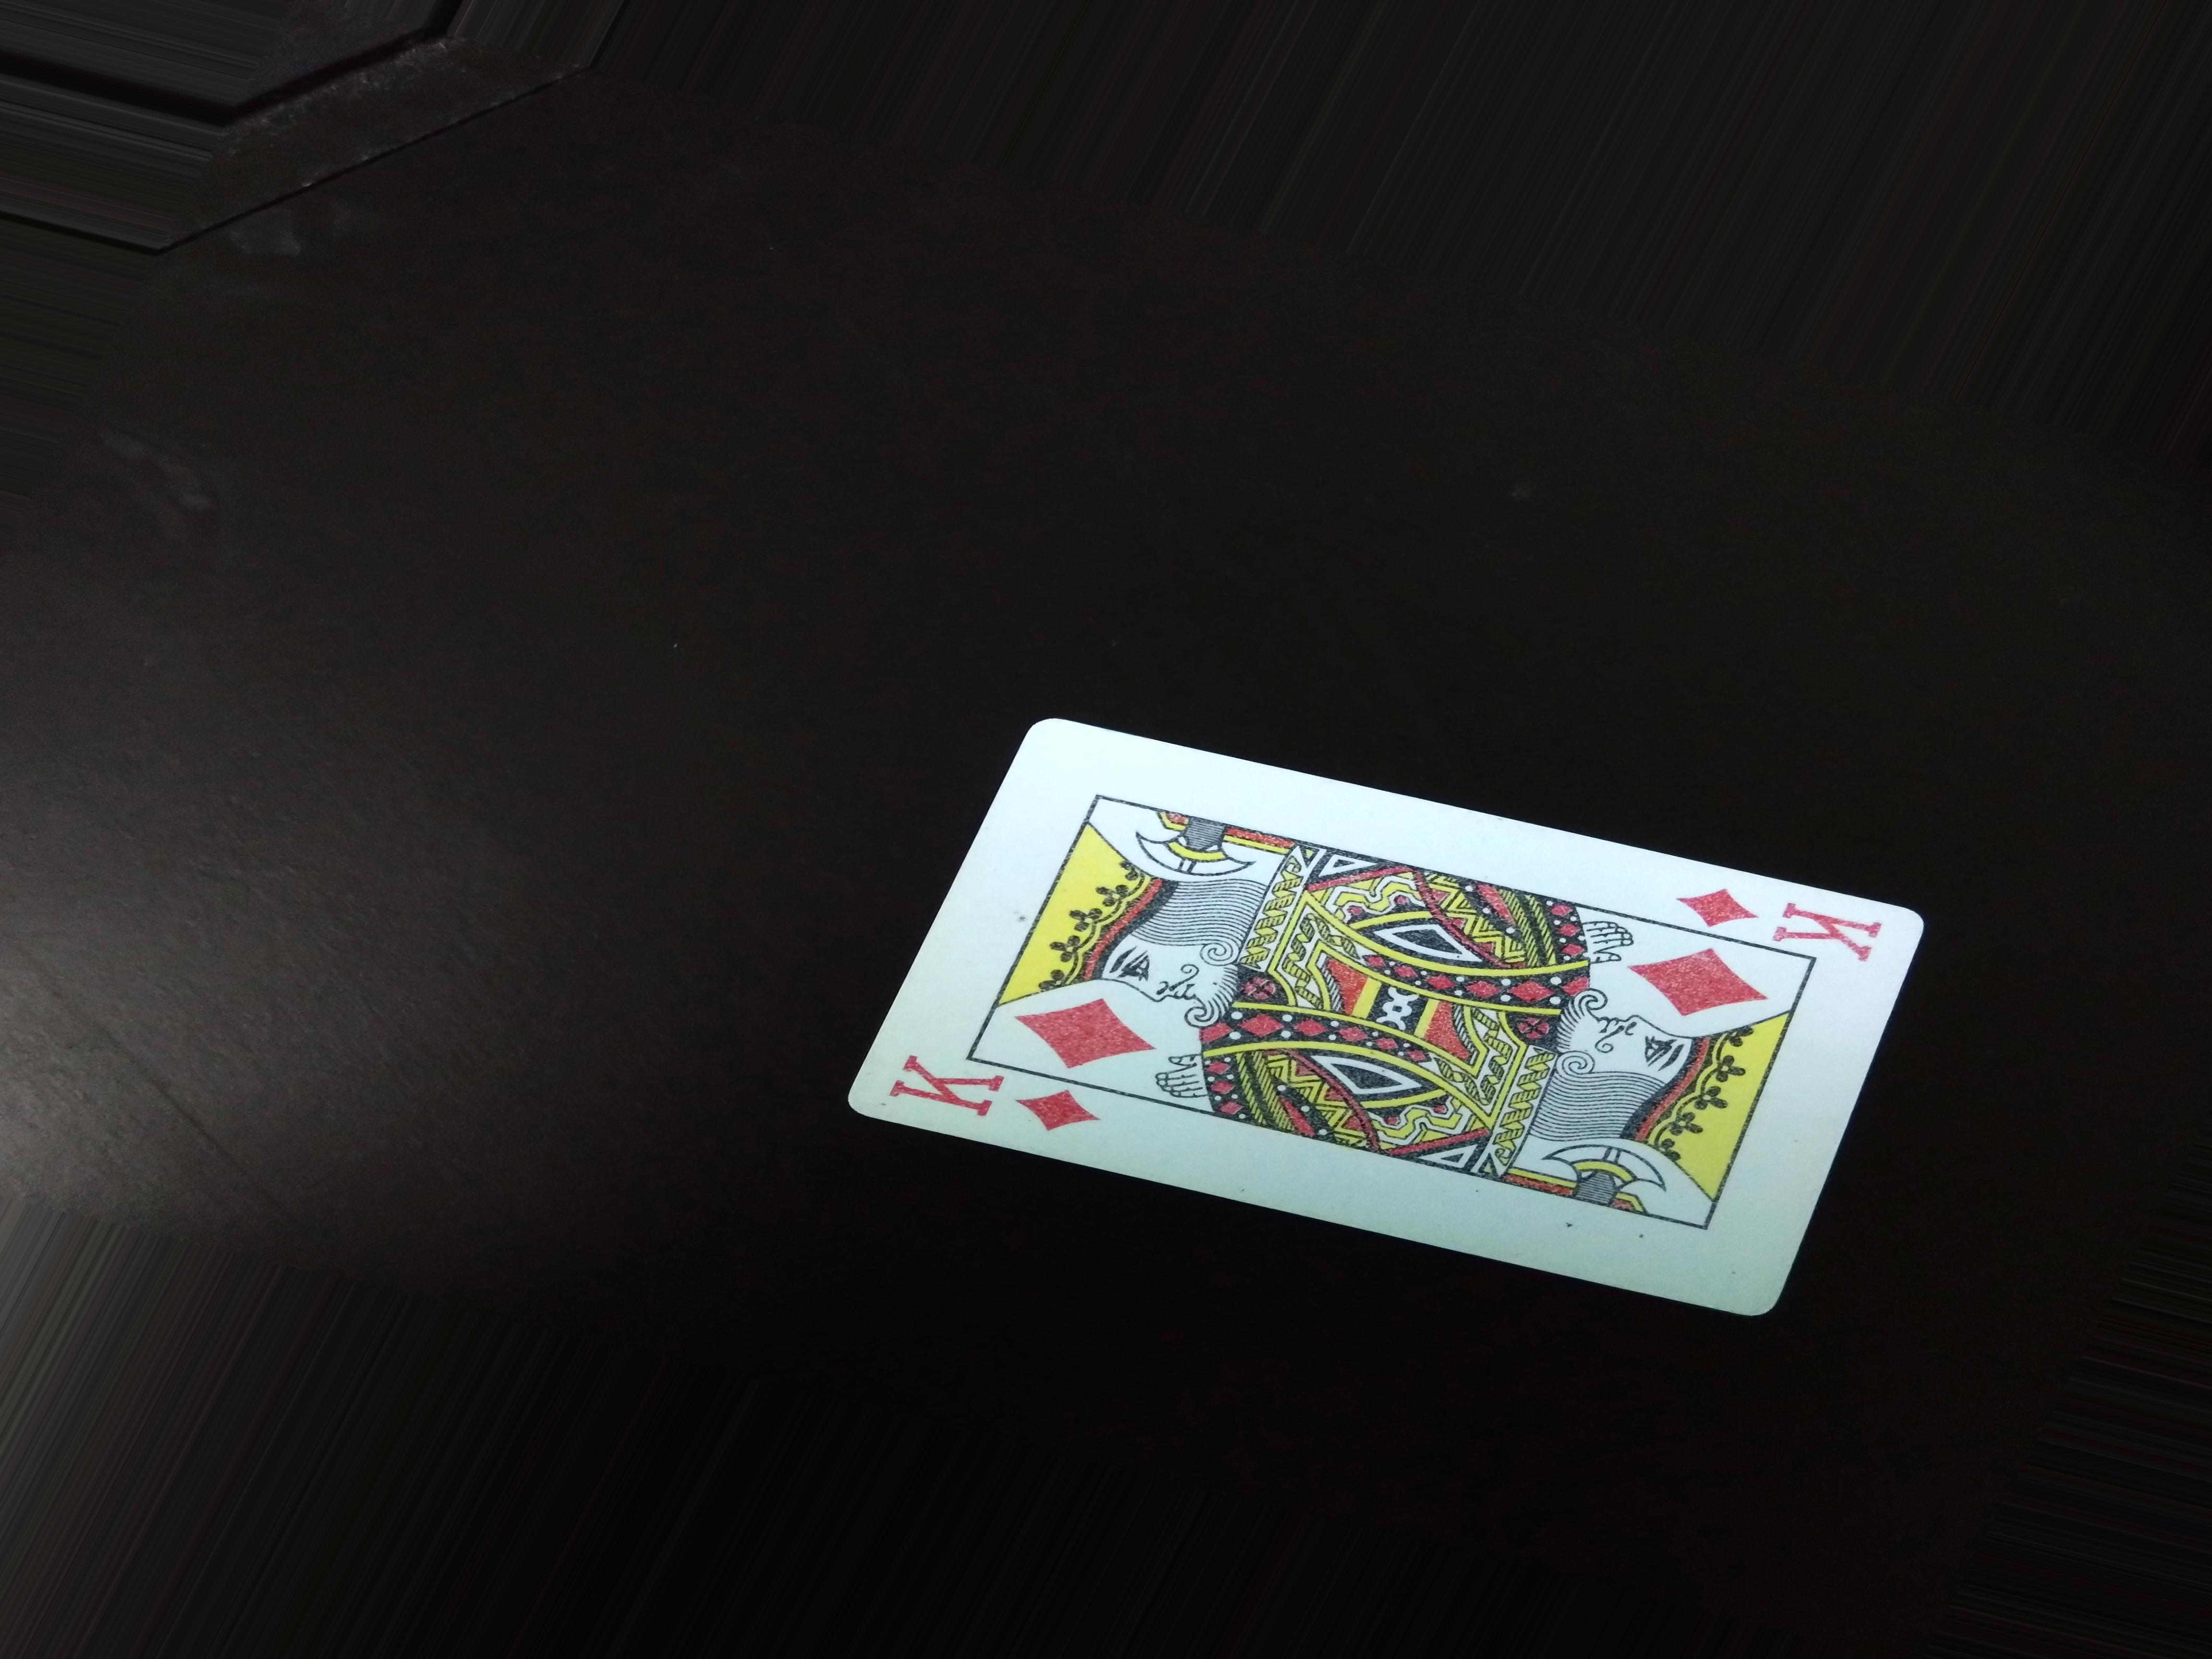KD: (1676, 873, 1898, 962)
